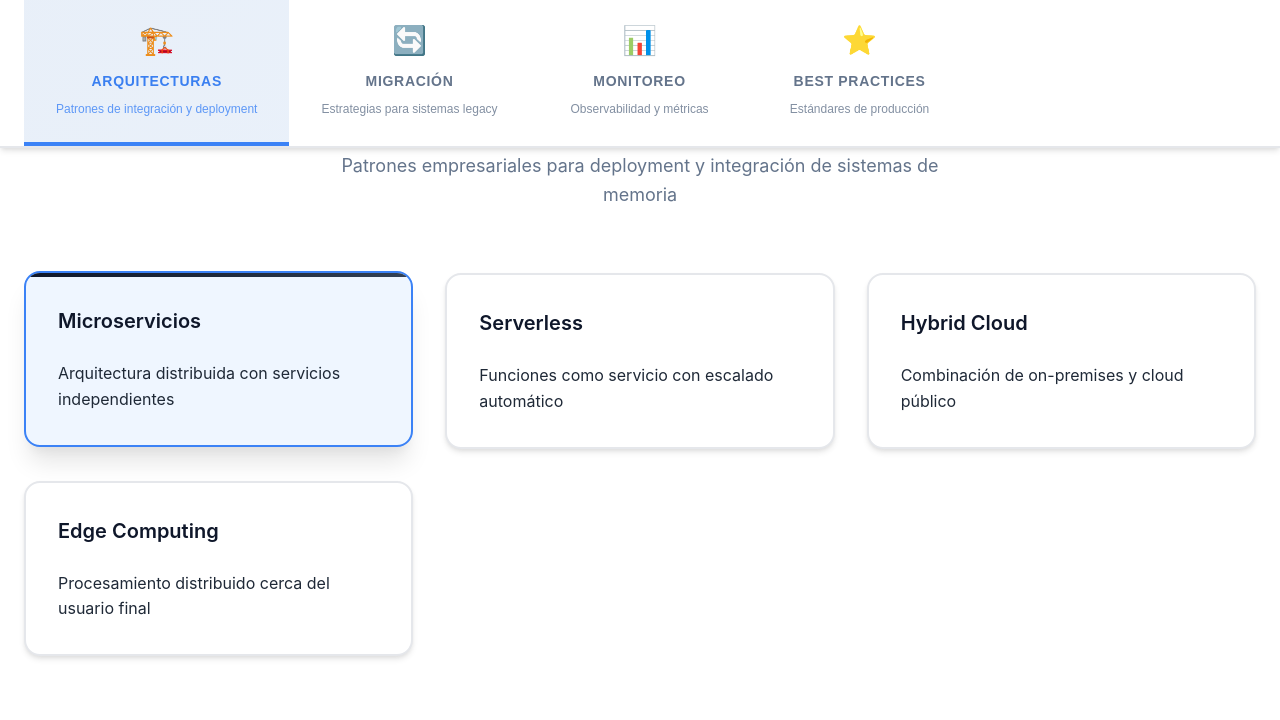
Scenario: Lesson06Integration - Enterprise Integration & Deployment › Integration Architectures Tab › selects architecture and shows details
(page scrolled)
Click the button "Serverless".
click(531, 323)  # box [445, 273, 835, 449]
(page scrolled)
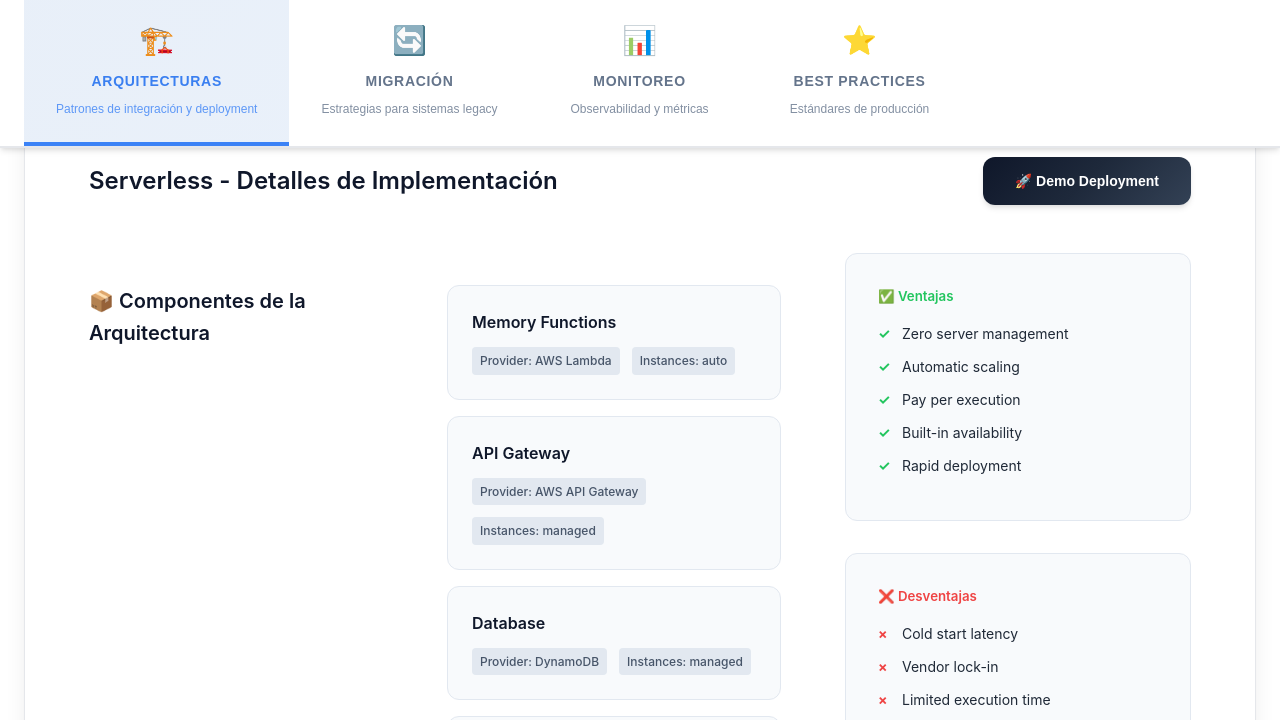
Check: the text "Provider: AWS Lambda" is shown, box [472, 347, 620, 374]
